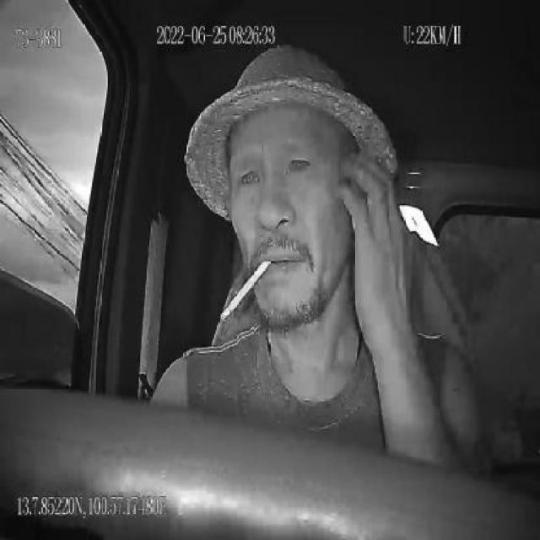smoking: (220, 256, 274, 324)
